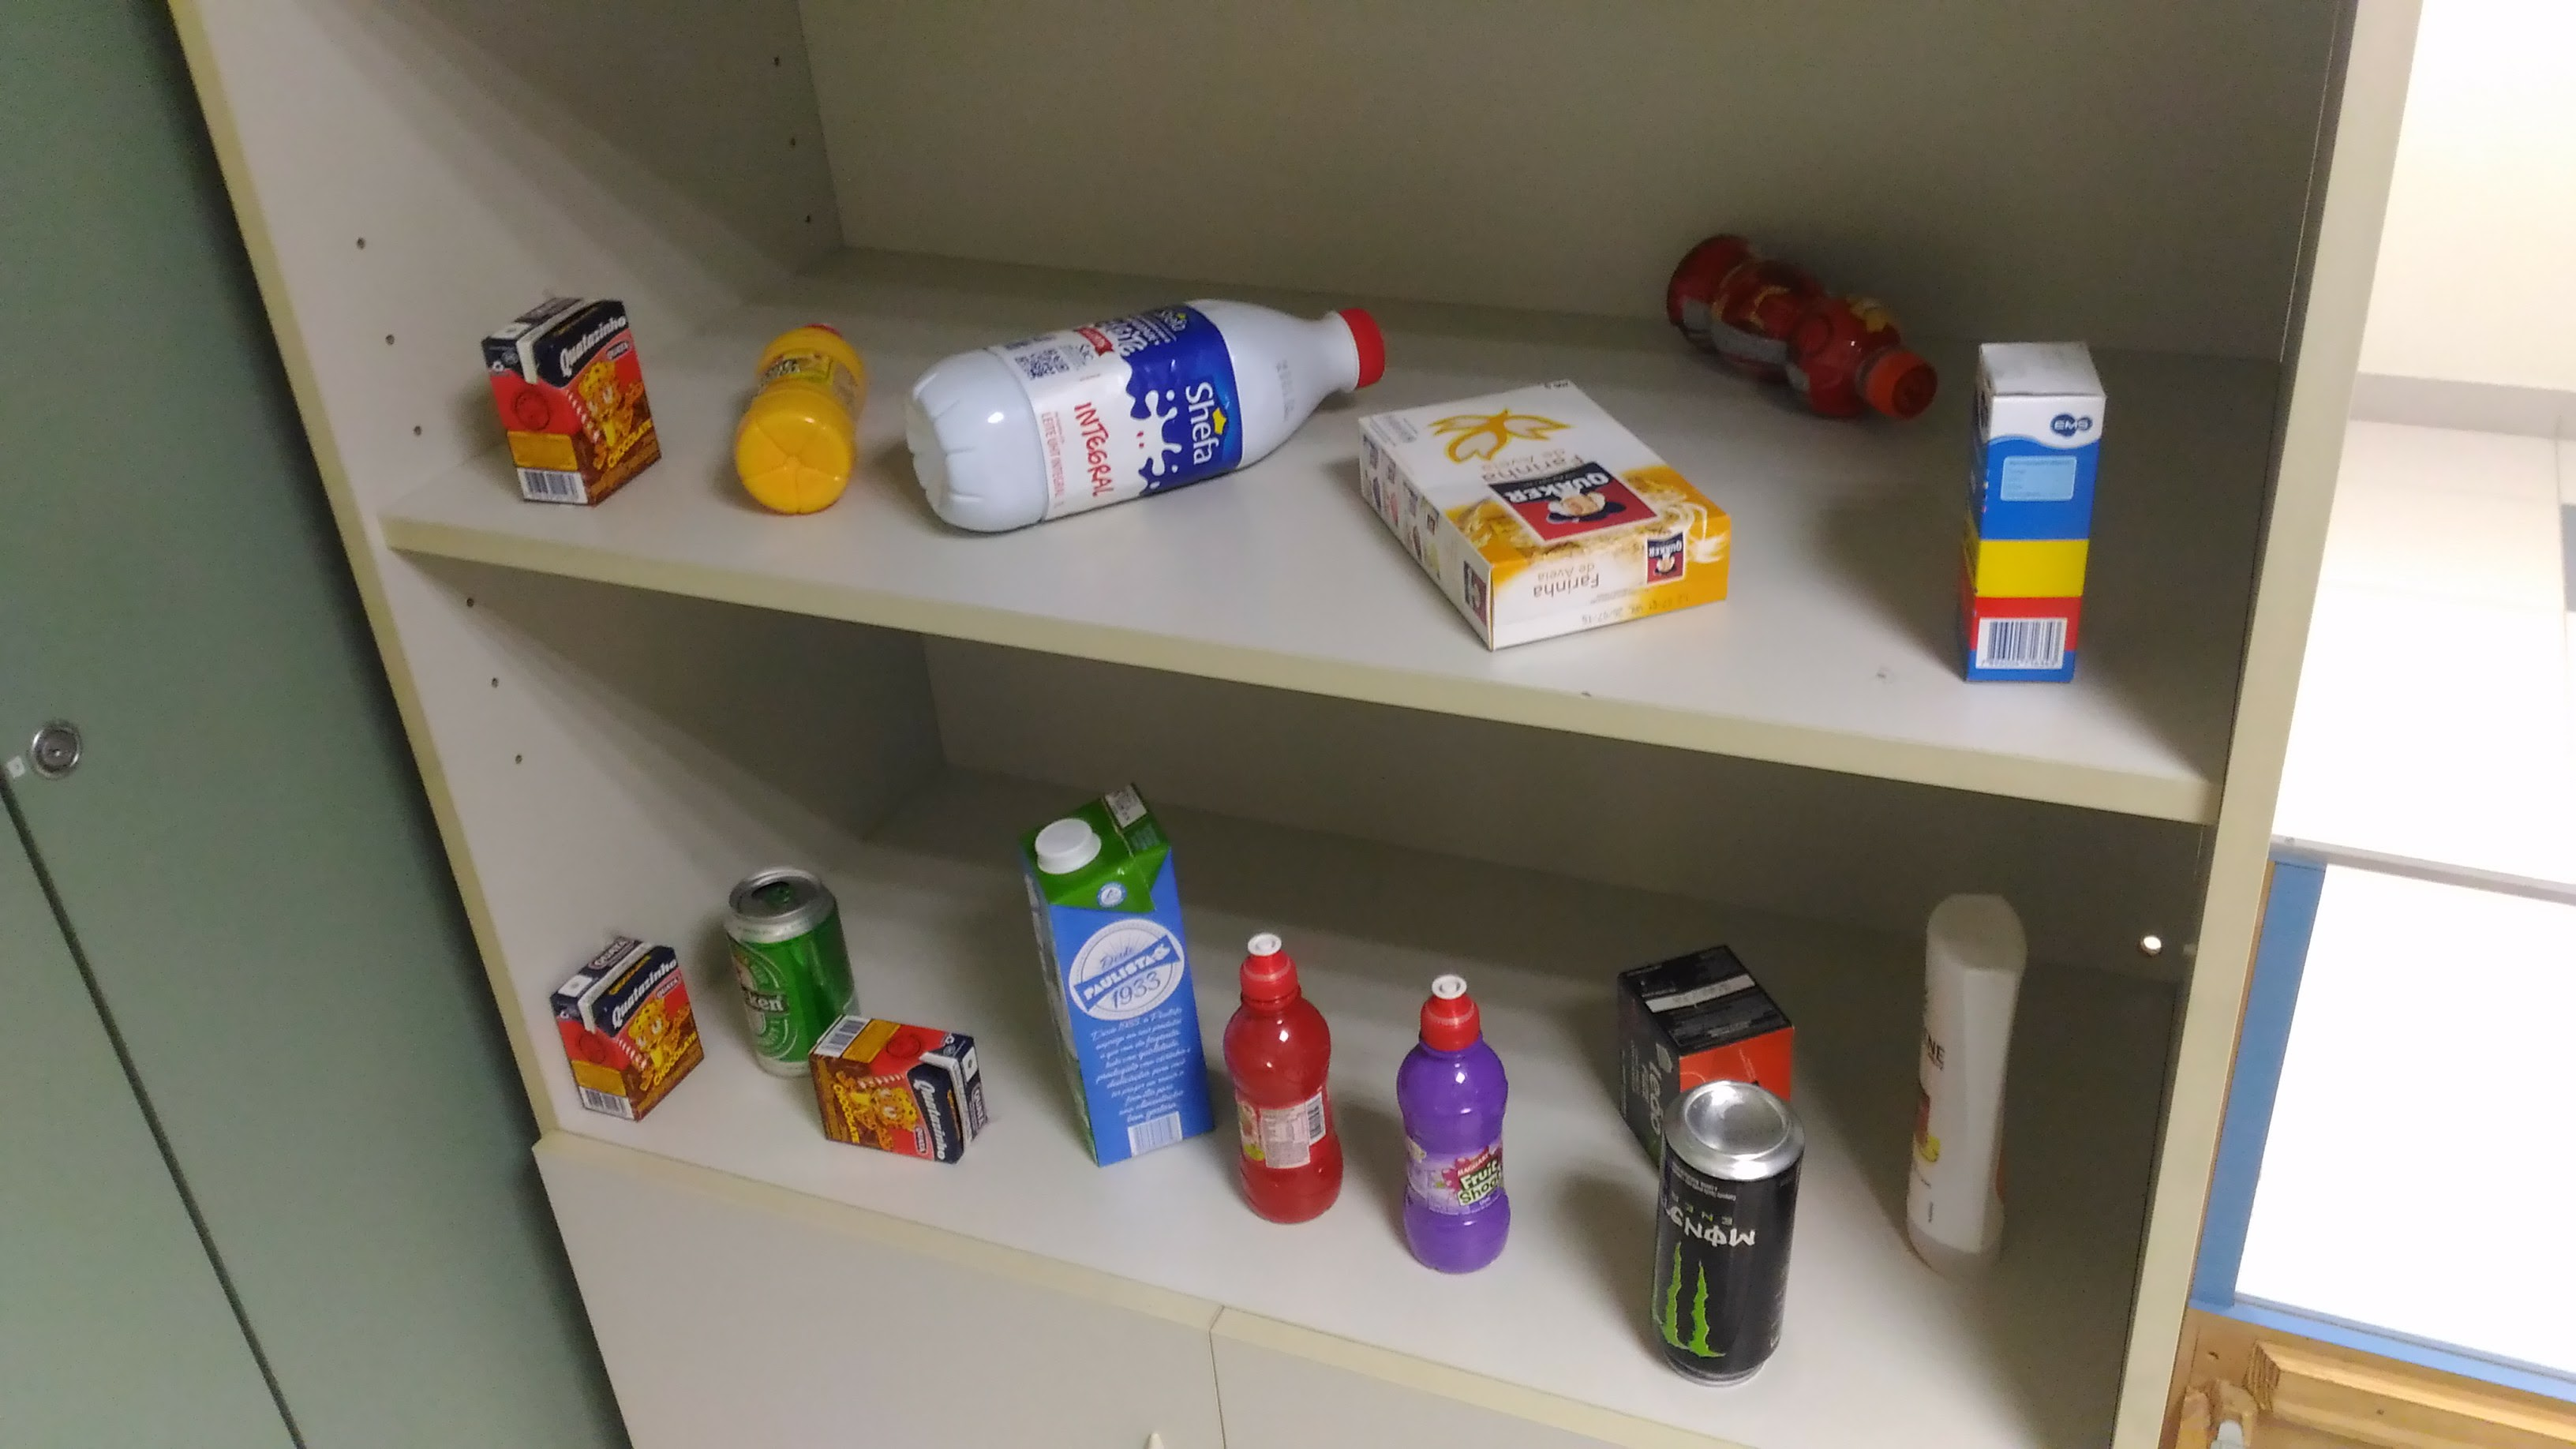cereal: (1344, 368, 1742, 658)
chocolate_milk: (468, 286, 671, 511), (547, 926, 713, 1134), (811, 1010, 992, 1174)
heineken: (721, 858, 868, 1089)
iron_man: (1660, 227, 1936, 430)
medicine: (1936, 328, 2119, 692)
milk_bottle: (902, 286, 1395, 537)
milk_box: (1014, 779, 1229, 1174)
monster: (1640, 1067, 1810, 1397)
purple_juice: (1383, 963, 1522, 1279)
red_juice: (1204, 920, 1356, 1233)
shampoo: (1896, 878, 2046, 1286)
yellow_juice: (724, 314, 879, 526)
